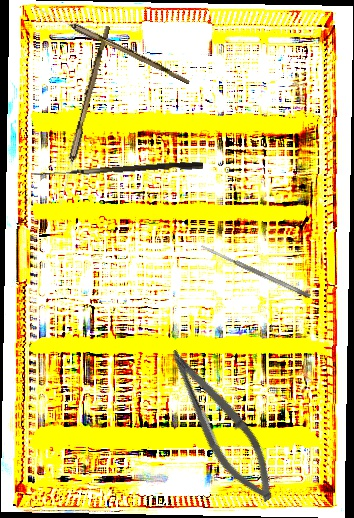Hook Surgical: (31, 158, 204, 184)
Micro Scissor: (149, 341, 291, 511)
Spatula Surgical: (199, 242, 312, 300)
Surgical Spoon: (30, 3, 192, 85), (56, 24, 111, 207)
